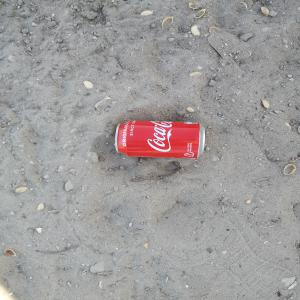Can: (114, 121, 208, 160)
